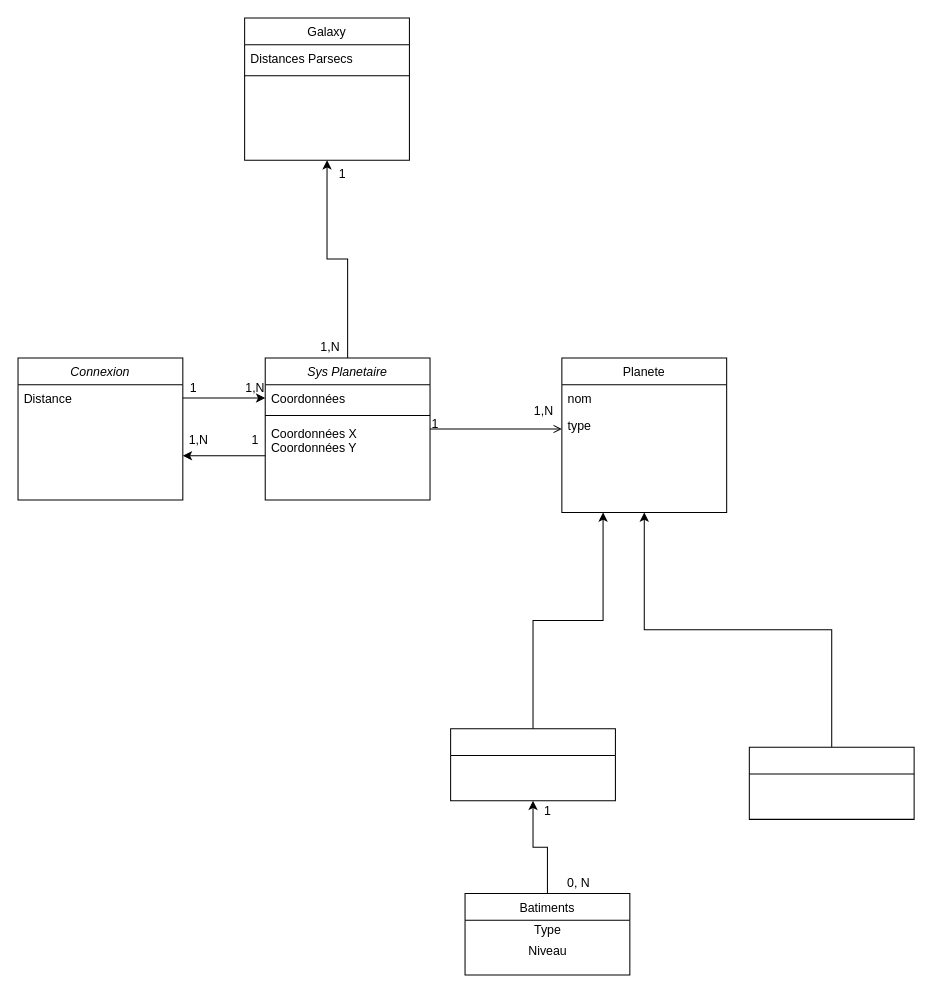
Image size: 932x993. Some labels were removed from this diagram. Here are the shapes that lost their labels. From the top down, the centre of each, then its label:
At pixel 532 764: "Habitable".
At pixel 831 782: "Gaz".
